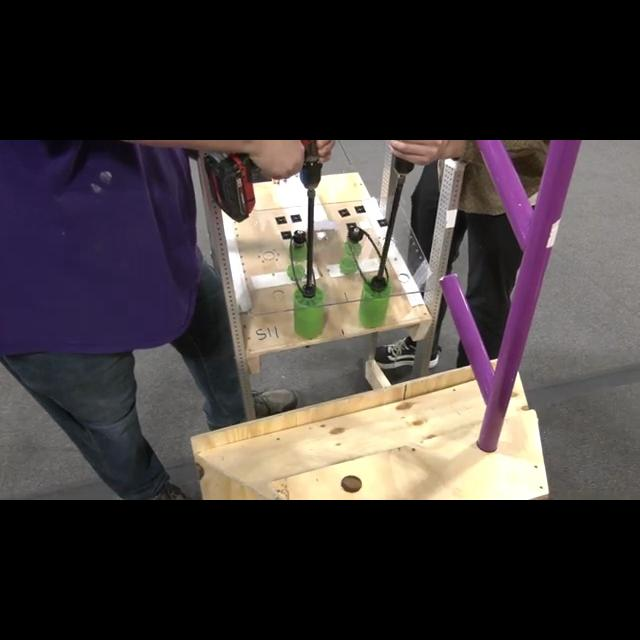CORAL: (276, 177, 328, 243)
